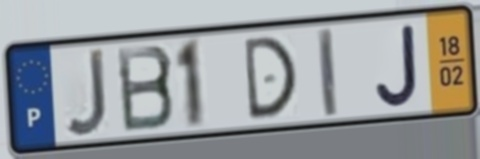1: (174, 34, 211, 134)
B: (113, 42, 178, 136)
D: (240, 33, 300, 124)
I: (315, 24, 341, 121)
J: (62, 45, 110, 140), (373, 22, 421, 110)
